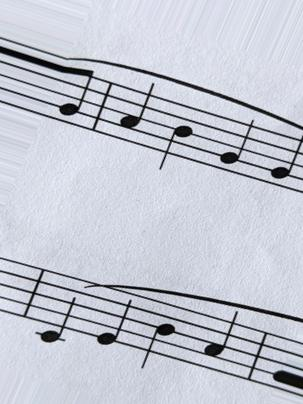note: (34, 269, 78, 345), (138, 295, 180, 373), (115, 78, 156, 157), (199, 302, 238, 378), (213, 115, 255, 185), (158, 96, 194, 173), (95, 286, 135, 355), (268, 127, 303, 194)
